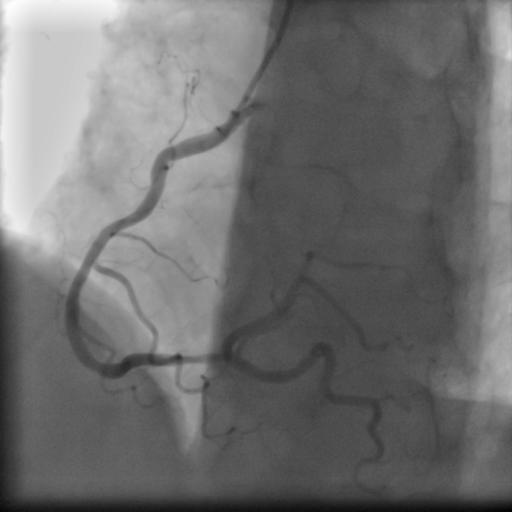Stenosis: (172, 344, 221, 371)
